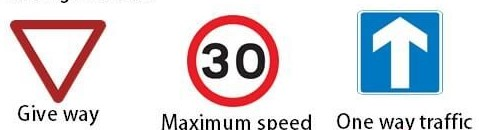Traffic signal: (186, 15, 280, 106), (10, 18, 106, 103), (356, 10, 447, 96)
